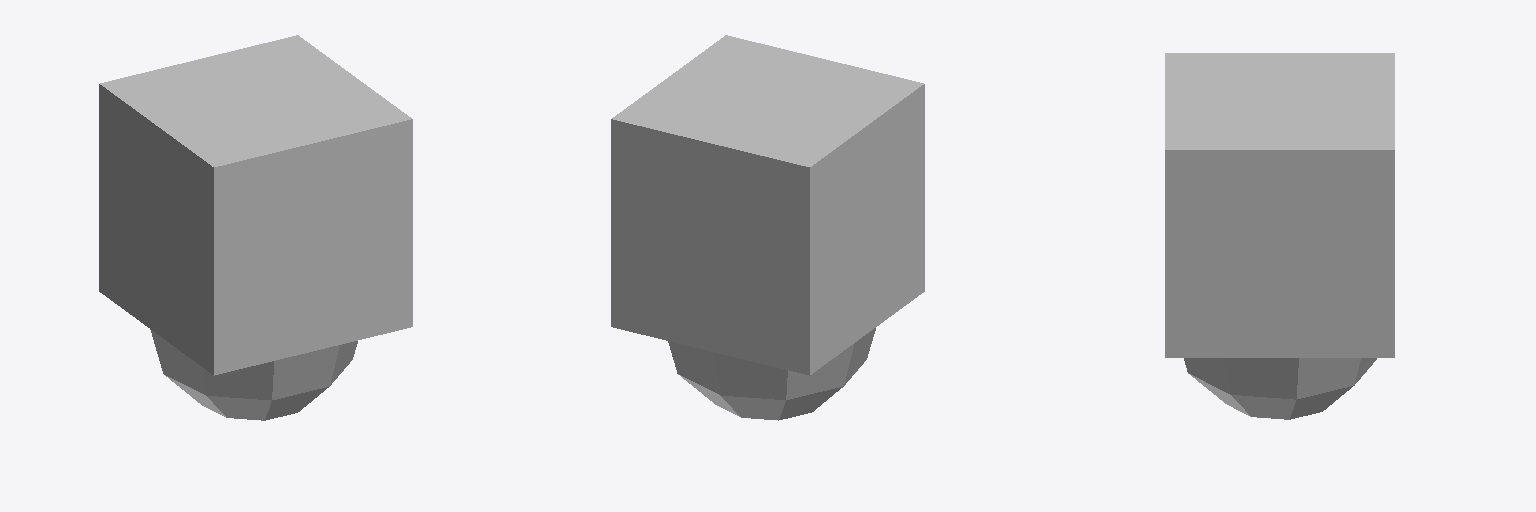
The model's file is large_2.obj.
3 views of the same model, side by side, from view 1: azimuth 30°, elevation 25°; view 2: azimuth 150°, elevation 25°; view 3: azimuth 270°, elevation 25° (orthographic).
Parts seen in each view (by area): view 1: Cube.001_Cube.000, Sphere.003_Sphere.009; view 2: Cube.001_Cube.000, Sphere.003_Sphere.009; view 3: Cube.001_Cube.000, Sphere.003_Sphere.009.
Part boxes in pixels (x1,y1,x2,y2): Cube.001_Cube.000: (99,35,412,375); Sphere.003_Sphere.009: (150,329,357,420); Cube.001_Cube.000: (611,35,924,375); Sphere.003_Sphere.009: (668,328,875,420); Cube.001_Cube.000: (1165,53,1394,357); Sphere.003_Sphere.009: (1184,358,1376,419).
Bounding box in the file's own units: 1 × 1.49 × 1.